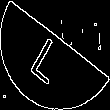L_NE: (32, 26, 78, 84)
